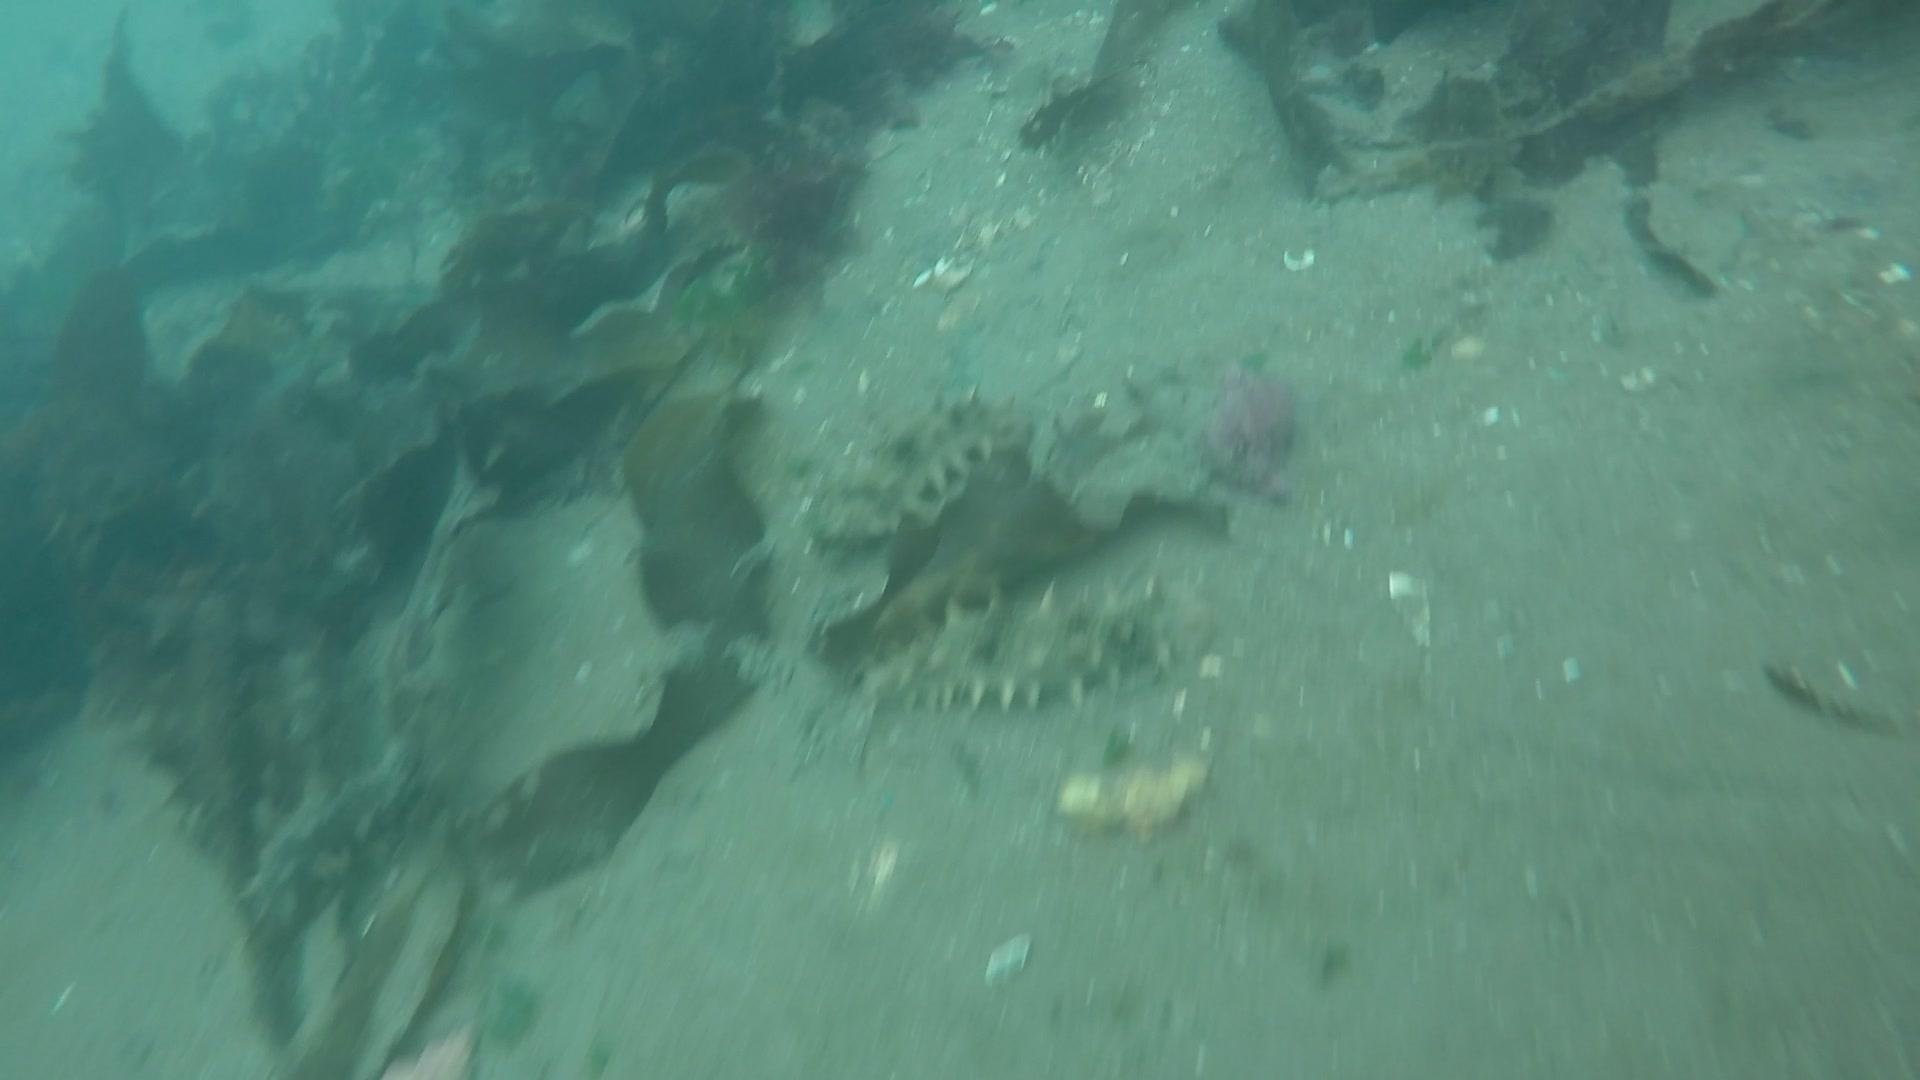holothurian: (869, 562, 1226, 720), (800, 380, 1027, 555), (851, 575, 1101, 680)
